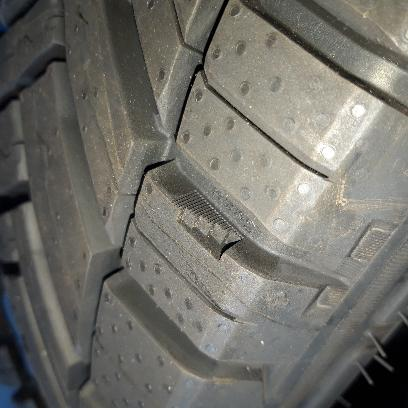temoin:100: (164, 187, 248, 267)
